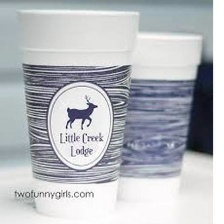paper_cup: (11, 4, 145, 221), (102, 27, 208, 209)
